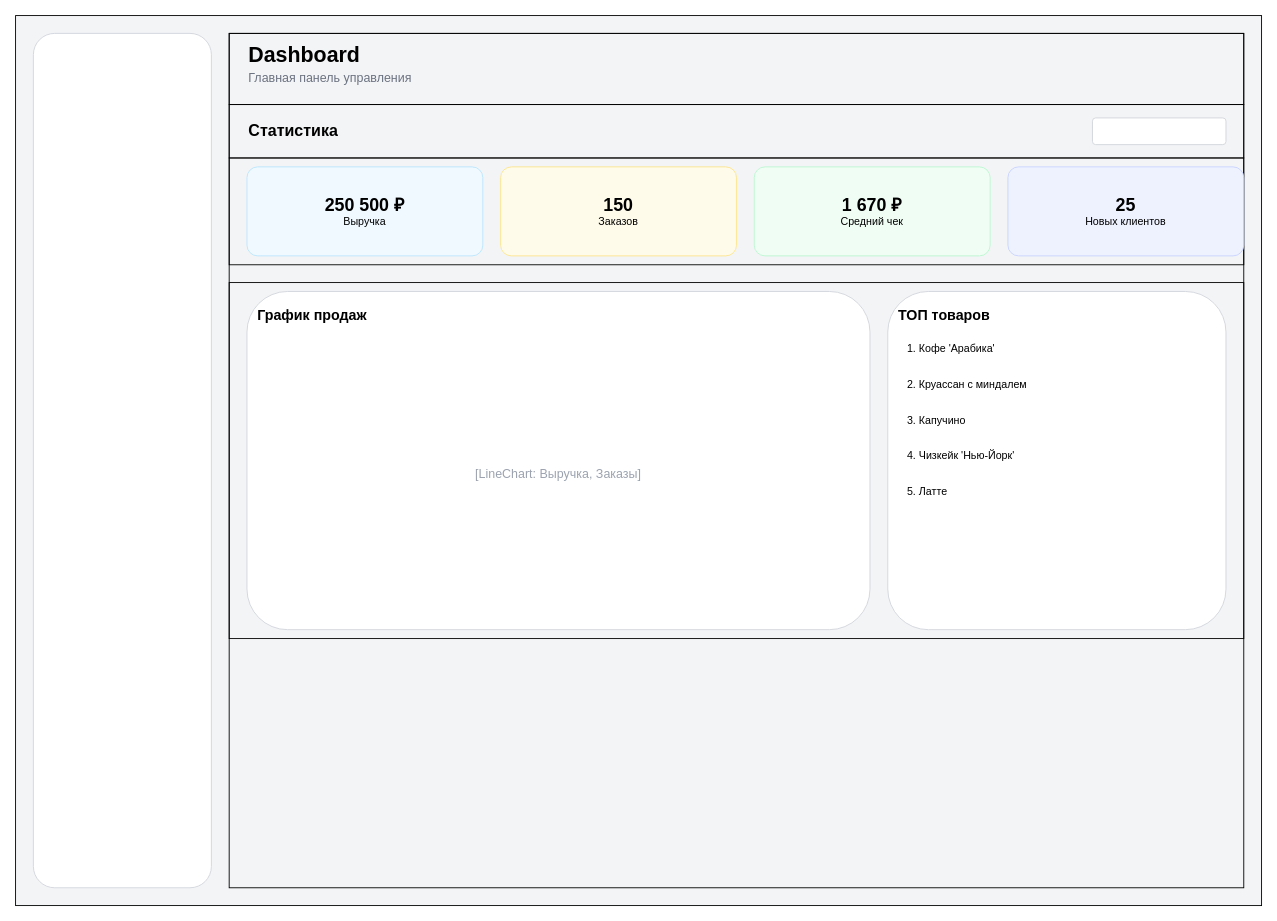
Some shapes in this 1277 by 921 pixel diagram are drawn without their labels. The centre of each missing label's shape, as x and y in pixels:
Layout (Меню навигации): (x=121, y=460)
Период: [День]: (x=1159, y=131)
